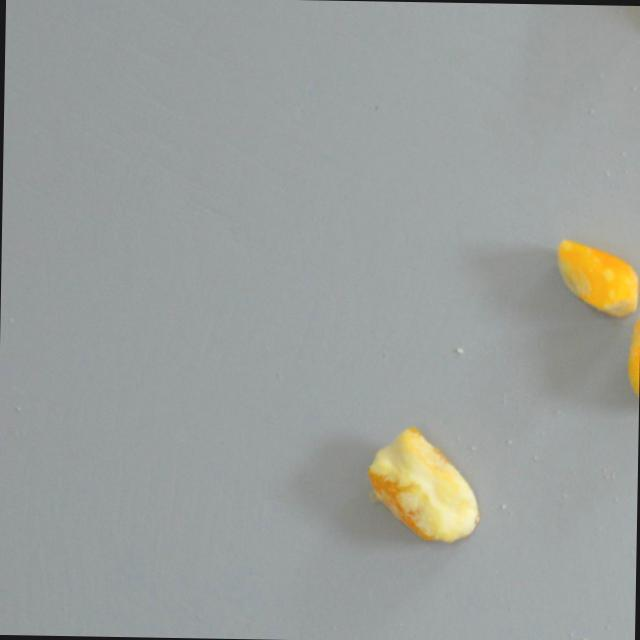estandar: (554, 239, 639, 316)
pelicula: (363, 424, 482, 545), (626, 300, 640, 410)
